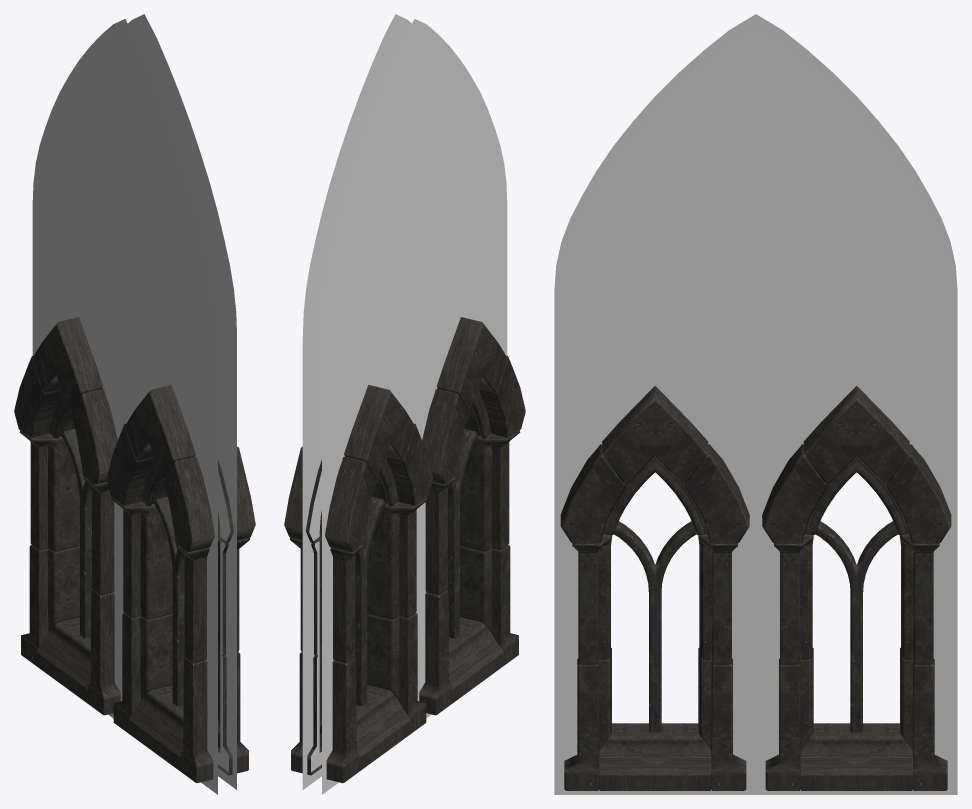
The picture shows the model from 3 angles, left to right: view 1: azimuth 30°, elevation 25°; view 2: azimuth 150°, elevation 25°; view 3: azimuth 270°, elevation 25°; orthographic projection. The views are drawn at different scales.
Visible parts, largest first — view 1: SM_Greathall_Window_Insert_01_LOD0; view 2: SM_Greathall_Window_Insert_01_LOD0; view 3: SM_Greathall_Window_Insert_01_LOD0.
Part boxes in pixels (bbox=[...]): SM_Greathall_Window_Insert_01_LOD0: bbox=[14, 14, 255, 794]; SM_Greathall_Window_Insert_01_LOD0: bbox=[284, 14, 525, 794]; SM_Greathall_Window_Insert_01_LOD0: bbox=[554, 14, 957, 794].
Bounding box in the file's own units: 0.7435 × 7.66 × 3.63.
Materials: 2 (1 with a texture image).
